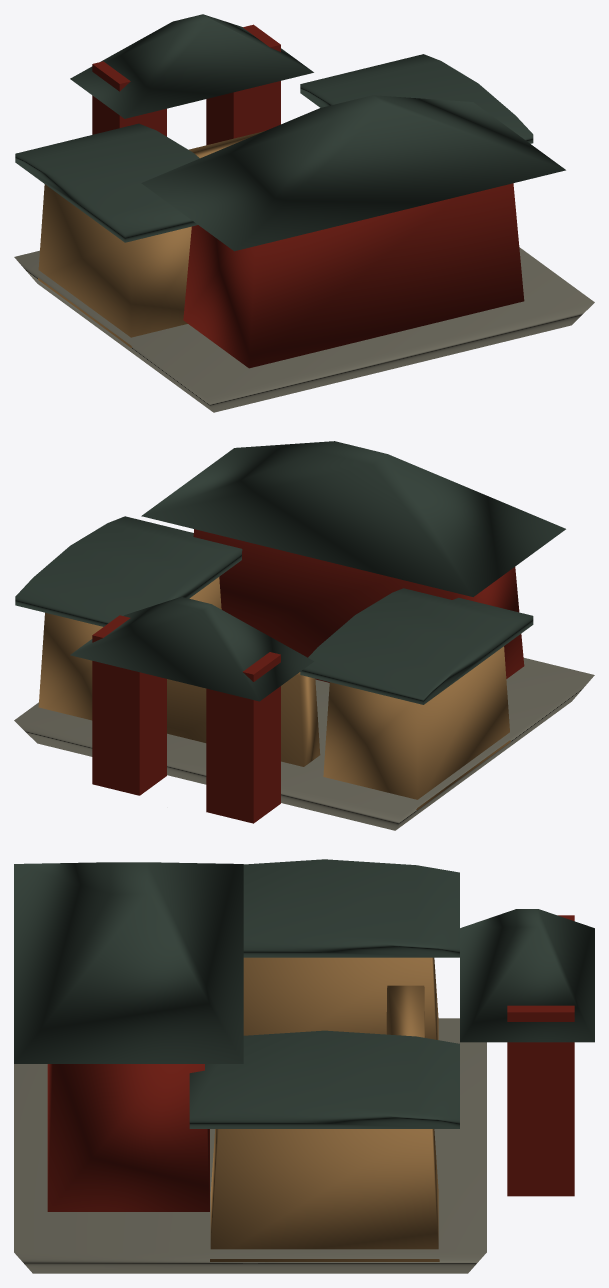
The model's file is R37_HAN_LUOYANG_URBAN_LOCAL_OFFICE_AXIS_A.fbx.
3 renders of one model, top to bottom at view 1: azimuth 30°, elevation 25°; view 2: azimuth 150°, elevation 25°; view 3: azimuth 270°, elevation 25°, orthographic. The views are drawn at different scales.
Visible parts, largest first — view 1: hall, hall_roof, terrace, office_e, gate_roof, office_roof_e, office_roof_w, gate_w, gate_e; view 2: hall_roof, office_e, office_roof_e, terrace, office_roof_w, hall, gate_roof, gate_e, gate_w, screen, office_w; view 3: hall_roof, terrace, office_w, office_roof_w, hall, office_roof_e, gate_roof, office_e, gate_w, screen.
Part boxes in pixels (x1,y1,x2,y2): hall: (183, 183, 524, 368); hall_roof: (141, 95, 565, 251); terrace: (14, 247, 594, 412); office_e: (38, 184, 191, 347); gate_roof: (70, 14, 313, 118); office_roof_e: (15, 123, 199, 242); office_roof_w: (300, 54, 533, 143); gate_w: (206, 24, 280, 145); gate_e: (92, 61, 166, 136); hall_roof: (141, 441, 565, 596); office_e: (323, 646, 510, 809); office_roof_e: (300, 588, 533, 704); terrace: (14, 658, 594, 830); office_roof_w: (15, 516, 242, 626); hall: (193, 529, 524, 682); gate_roof: (70, 596, 313, 701); gate_e: (206, 652, 280, 823); gate_w: (92, 615, 166, 795); screen: (167, 672, 320, 766); office_w: (38, 577, 221, 720); hall_roof: (14, 862, 243, 1063); terrace: (14, 1018, 486, 1273); office_w: (210, 1129, 439, 1261); office_roof_w: (189, 1030, 459, 1128); hall: (47, 1064, 209, 1211); office_roof_e: (243, 859, 459, 957); gate_roof: (460, 909, 594, 1042); office_e: (243, 957, 438, 1039); gate_w: (507, 1005, 574, 1196); screen: (386, 985, 425, 1037).
Bounding box in the file's own units: 86 × 47 × 86.
